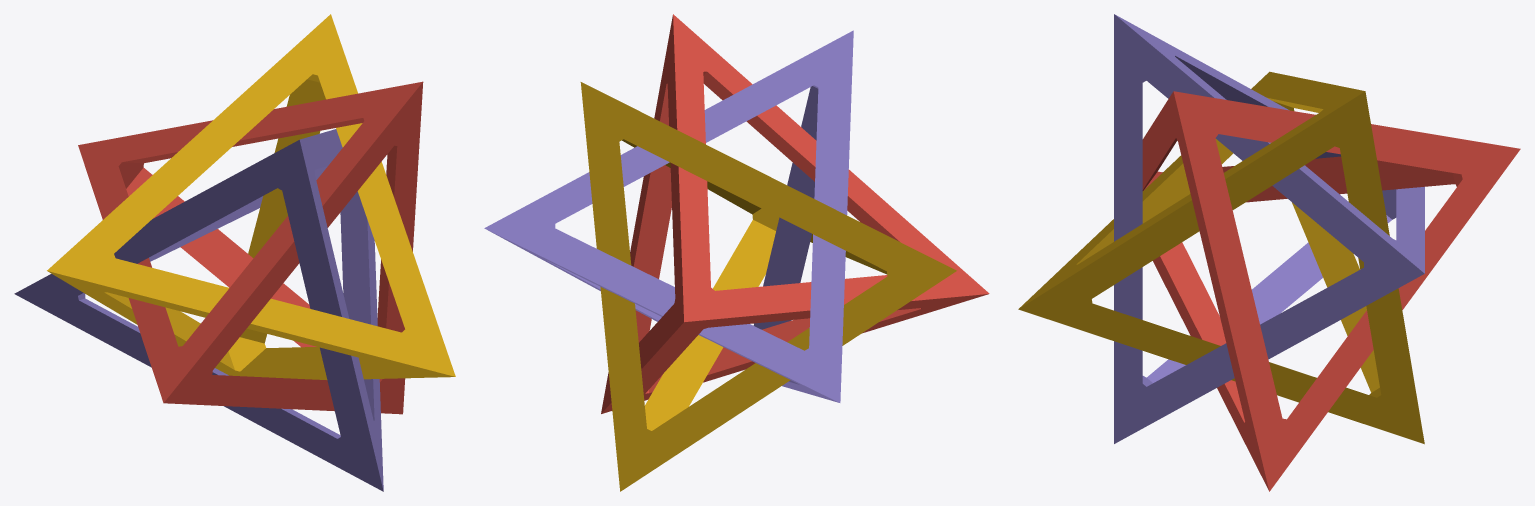
File: fit-3.glb
3 renders of one model, left to right at view 1: azimuth 30°, elevation 25°; view 2: azimuth 150°, elevation 25°; view 3: azimuth 270°, elevation 25°, orthographic. The views are drawn at different scales.
Parts seen in each view (by area): view 1: fit.002, fit.005, fit.001; view 2: fit.002, fit.005, fit.001; view 3: fit.005, fit.002, fit.001.
Part boxes in pixels (x1,y1,x2,y2): fit.002: (47,14,455,379); fit.005: (78,81,423,414); fit.001: (14,129,383,491); fit.002: (580,82,956,491); fit.005: (601,14,989,413); fit.001: (484,30,853,402); fit.005: (1142,91,1520,491); fit.002: (1018,71,1424,444); fit.001: (1114,14,1424,443).
Size of the model in its own units: 5.44 by 4.87 by 5.72.
